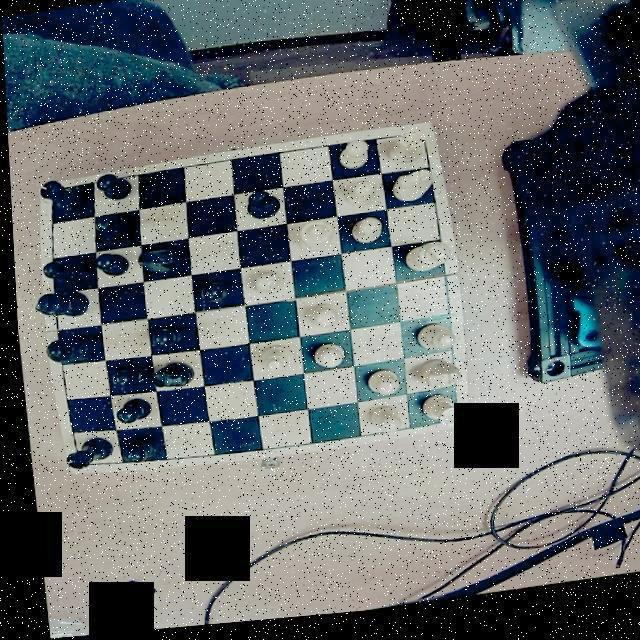chess-table-corners: (434, 412, 461, 436), (408, 132, 432, 156), (38, 183, 67, 201), (62, 451, 84, 472)
